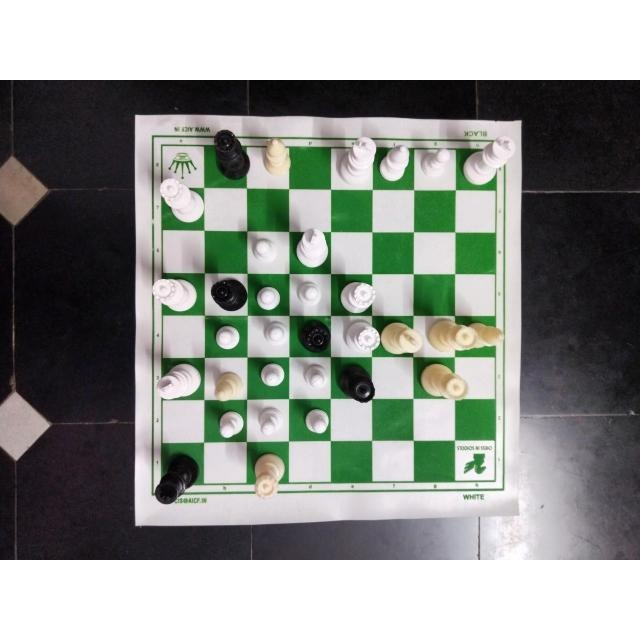black-king: (154, 453, 198, 504)
black-queen: (213, 129, 249, 179), (335, 360, 375, 403), (295, 317, 331, 354), (210, 278, 246, 310)
white-bishop: (261, 138, 291, 178), (380, 145, 412, 182), (472, 319, 504, 349), (215, 370, 243, 403)
white-king: (463, 135, 516, 186), (337, 137, 376, 185), (156, 362, 200, 399), (294, 227, 330, 268), (382, 321, 423, 355)
white-pawn: (419, 147, 450, 179), (250, 237, 281, 265), (216, 409, 244, 440), (212, 322, 240, 352), (257, 406, 283, 438), (258, 361, 286, 389), (294, 279, 322, 306), (262, 320, 289, 348), (303, 362, 329, 390), (255, 282, 280, 310), (303, 408, 328, 436)
white-queen: (159, 178, 205, 224), (417, 362, 468, 402), (249, 453, 285, 501), (427, 319, 477, 353), (152, 277, 196, 313), (339, 280, 377, 316), (344, 320, 380, 353)
